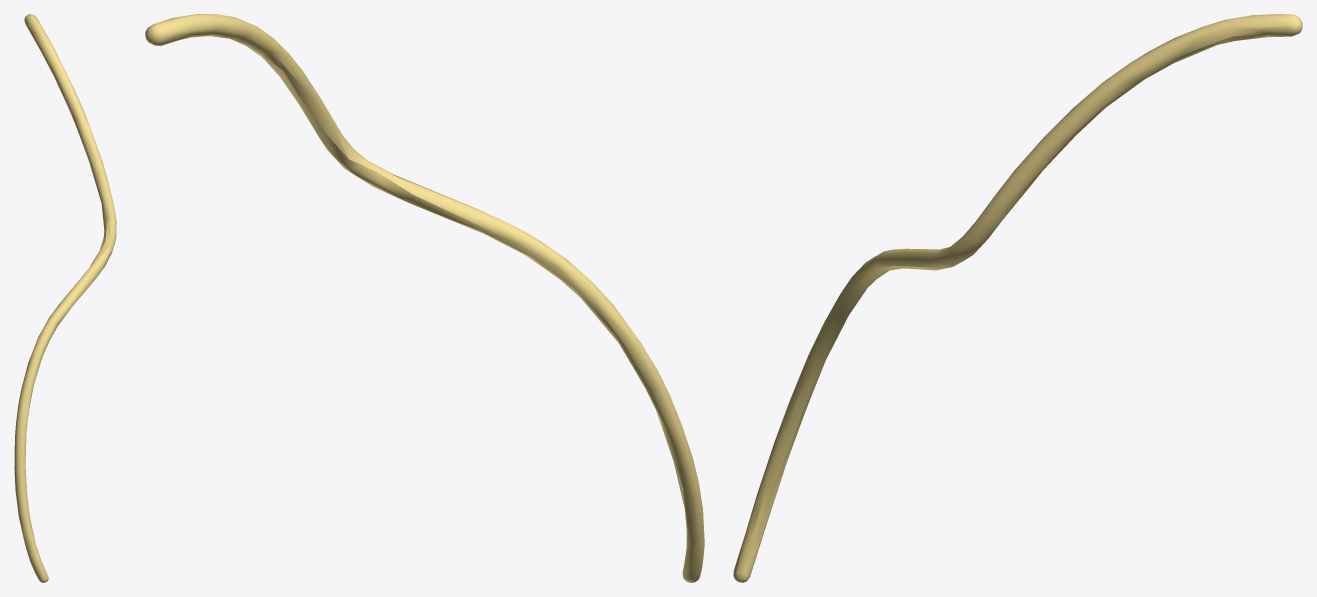
File: fma52997_fj3985.glb
3 views of the same model, side by side, from view 1: azimuth 30°, elevation 25°; view 2: azimuth 150°, elevation 25°; view 3: azimuth 270°, elevation 25° (orthographic). The views are drawn at different scales.
Parts seen in each view (by area): view 1: FMA52997_FJ3985; view 2: FMA52997_FJ3985; view 3: FMA52997_FJ3985.
Boxes of the visible parts, x1,y1,x2,y2 form: FMA52997_FJ3985: (14,14,116,582); FMA52997_FJ3985: (145,14,704,582); FMA52997_FJ3985: (733,14,1302,582).
Size of the model in its own units: 0.0181 by 0.0416 by 0.0311.
